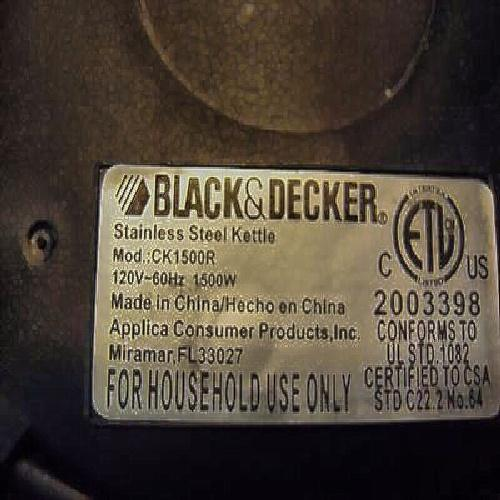kettle: (92, 172, 488, 423)
